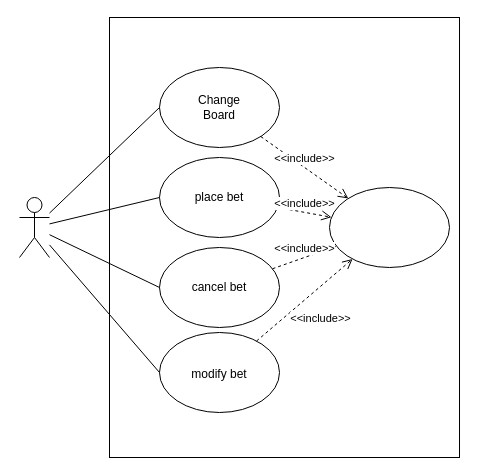
The diagram is 477 pixels wide and 475 high, and some of its shapes have lost their labels. The box of each missing label's shape, as (x1, y1, x2, y2) in pixels:
Login: (328, 186, 450, 268)
Player: (18, 196, 50, 258)
